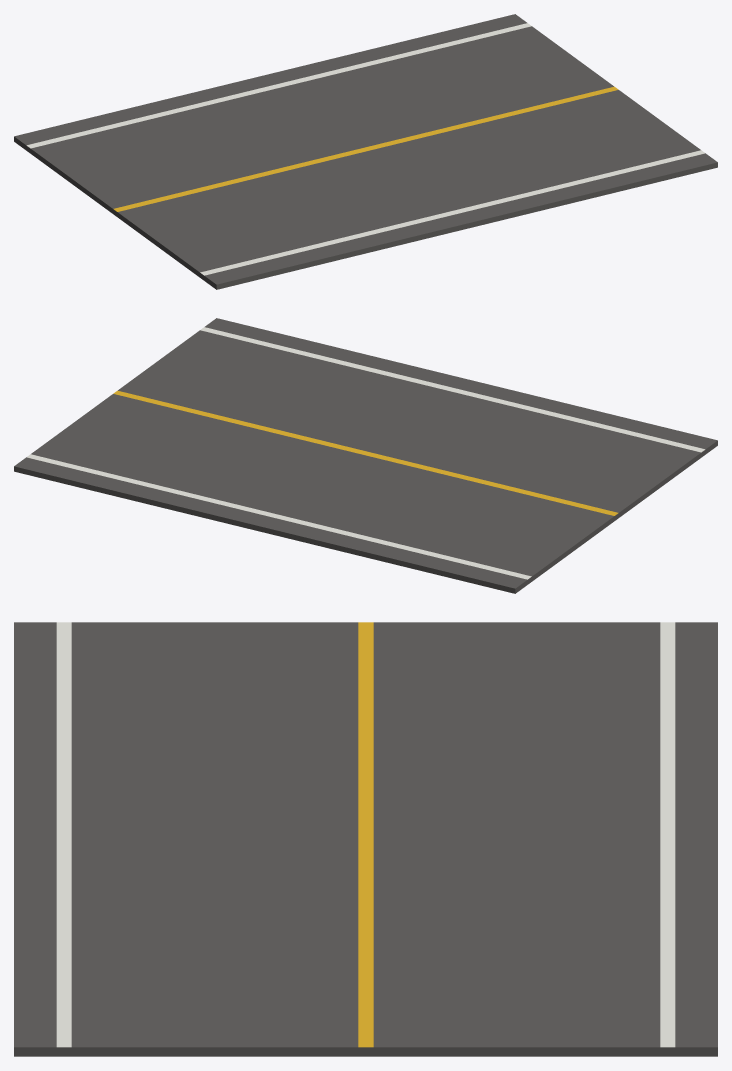
The model's file is SM_Ground_Road_700x1000_Yellow_01.fbx.
3 renders of one model, top to bottom at view 1: azimuth 30°, elevation 25°; view 2: azimuth 150°, elevation 25°; view 3: azimuth 270°, elevation 25°, orthographic. The views are drawn at different scales.
Parts seen in each view (by area): view 1: SM_Ground_Road_700x1000_Yellow_01; view 2: SM_Ground_Road_700x1000_Yellow_01; view 3: SM_Ground_Road_700x1000_Yellow_01.
Boxes of the visible parts, x1,y1,x2,y2 form: SM_Ground_Road_700x1000_Yellow_01: (14, 14, 717, 289); SM_Ground_Road_700x1000_Yellow_01: (14, 318, 717, 593); SM_Ground_Road_700x1000_Yellow_01: (14, 622, 717, 1056).
Size of the model in its own units: 10 by 0.1 by 7.
1 material, 1 textured.
